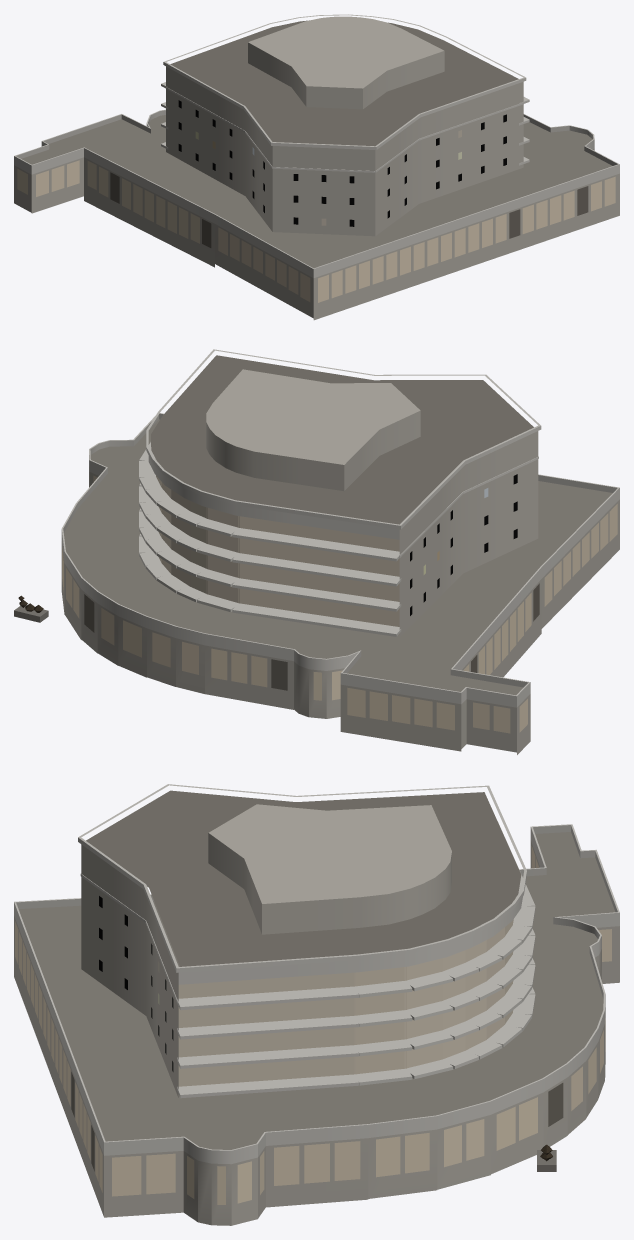
File: davies_lod1.glb
3 renders of one model, top to bottom at view 1: azimuth 30°, elevation 25°; view 2: azimuth 150°, elevation 25°; view 3: azimuth 270°, elevation 25°, orthographic. The views are drawn at different scales.
Parts seen in each view (by area): view 1: L1_concrete, L1_roof, L1_shop, L1_win; view 2: L1_concrete, L1_roof, L1_win, L1_shop; view 3: L1_concrete, L1_roof, L1_win, L1_shop.
Part boxes in pixels (left/top/right/bottom): L1_concrete: left=14, top=14, right=619, bottom=320; L1_roof: left=21, top=20, right=612, bottom=268; L1_shop: left=17, top=160, right=615, bottom=302; L1_win: left=178, top=100, right=506, bottom=226; L1_concrete: left=61, top=349, right=619, bottom=754; L1_roof: left=64, top=355, right=612, bottom=695; L1_win: left=155, top=459, right=517, bottom=634; L1_shop: left=62, top=475, right=617, bottom=733; L1_concrete: left=14, top=784, right=619, bottom=1225; L1_roof: left=18, top=790, right=615, bottom=1149; L1_win: left=99, top=896, right=515, bottom=1086; L1_shop: left=15, top=846, right=611, bottom=1204.
Size of the model in its own units: 110 by 35.95 by 86.19.
